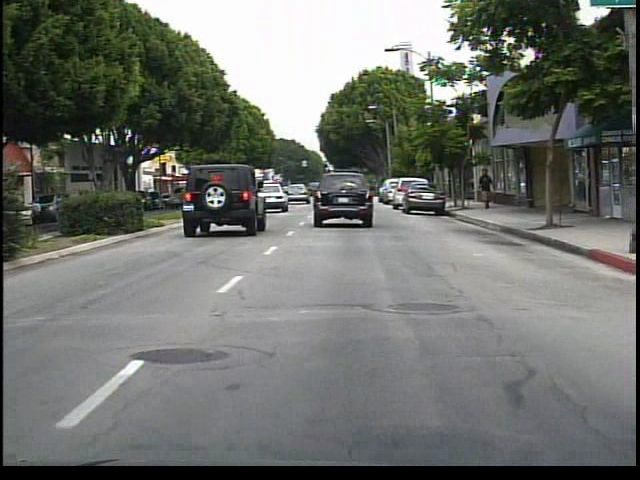person: (475, 166, 498, 213)
